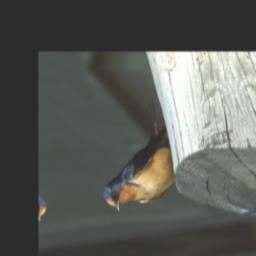Swallow: (78, 98, 188, 214)
